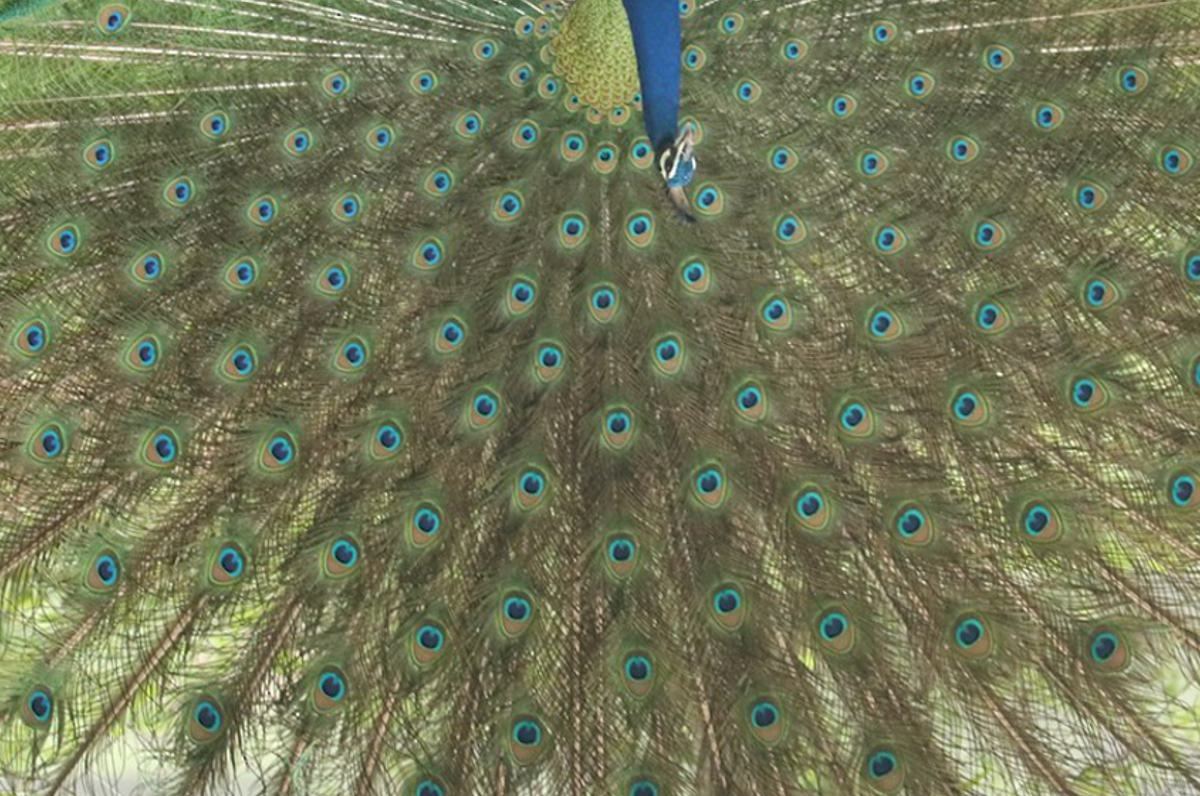peacock: (137, 1, 1110, 512)
